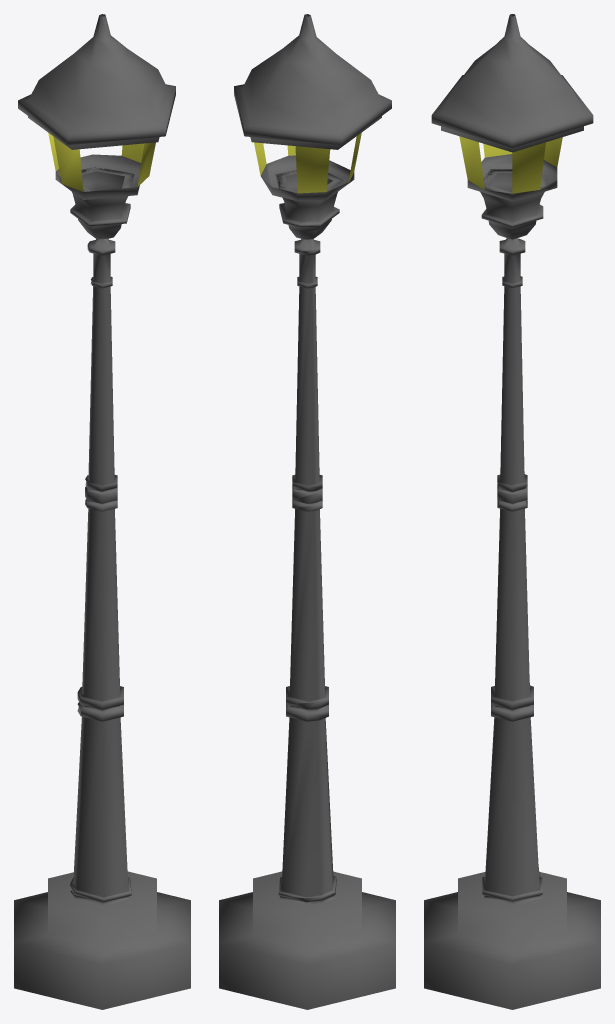
The model's file is Street Light.fbx.
3 renders of one model, left to right at view 1: azimuth 30°, elevation 25°; view 2: azimuth 150°, elevation 25°; view 3: azimuth 270°, elevation 25°, orthographic.
Visible parts, largest first — view 1: polySurface1; view 2: polySurface1; view 3: polySurface1.
Part boxes in pixels (box(x1,y1,x2,y2)): polySurface1: box(14, 14, 190, 1009); polySurface1: box(219, 14, 395, 1009); polySurface1: box(424, 14, 600, 1009).
Size of the model in its own units: 2.43 by 12.5 by 2.11.
